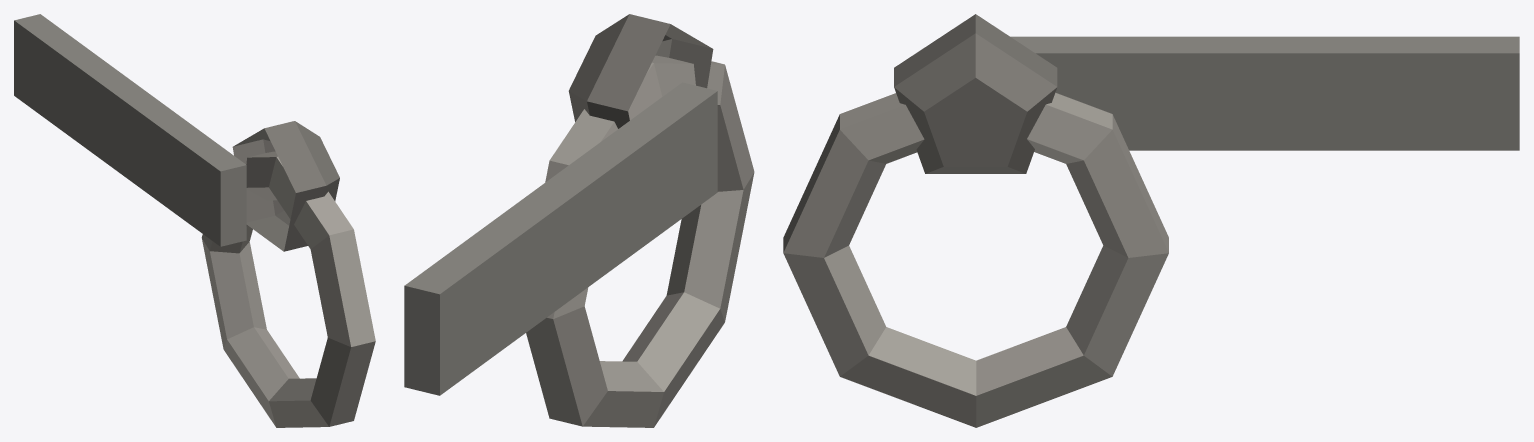
Rendered from SM_Veh_Cart_02_Lock_01.fbx.
The picture shows the model from 3 angles, left to right: view 1: azimuth 30°, elevation 25°; view 2: azimuth 150°, elevation 25°; view 3: azimuth 270°, elevation 25°; orthographic projection. The views are drawn at different scales.
Parts seen in each view (by area): view 1: SM_Veh_Cart_02_Lock_01; view 2: SM_Veh_Cart_02_Lock_01; view 3: SM_Veh_Cart_02_Lock_01.
Boxes of the visible parts, <box> form: SM_Veh_Cart_02_Lock_01: <box>14,14,375,427</box>; SM_Veh_Cart_02_Lock_01: <box>404,14,754,427</box>; SM_Veh_Cart_02_Lock_01: <box>783,14,1519,427</box>.
Bounding box in the file's own units: 5.27 × 27.39 × 16.04.
Materials: 1 (1 with a texture image).
